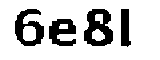6: (9, 5, 45, 51)
8: (81, 2, 115, 58)
e: (48, 18, 80, 50)
l: (118, 4, 140, 50)
